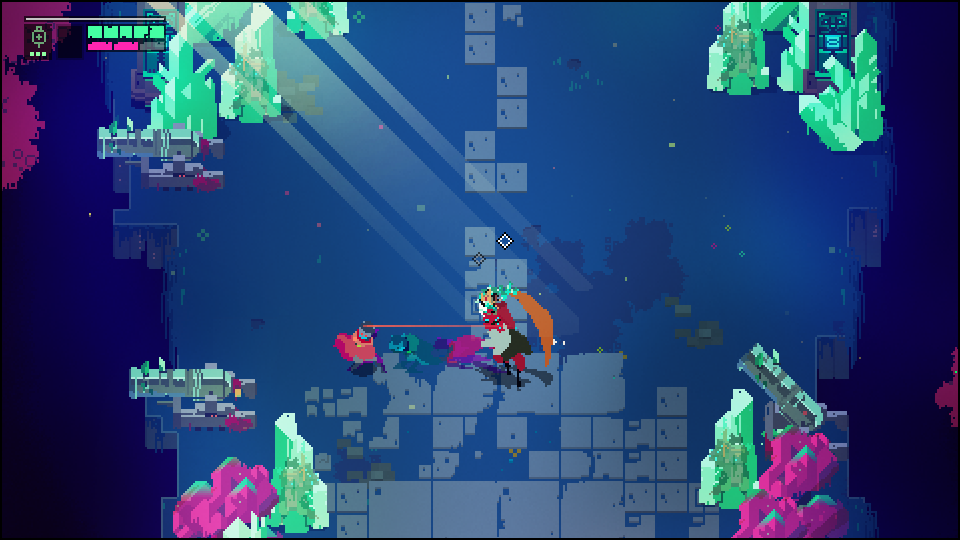hanged_man: (465, 279, 540, 388)
player: (333, 317, 388, 372)
